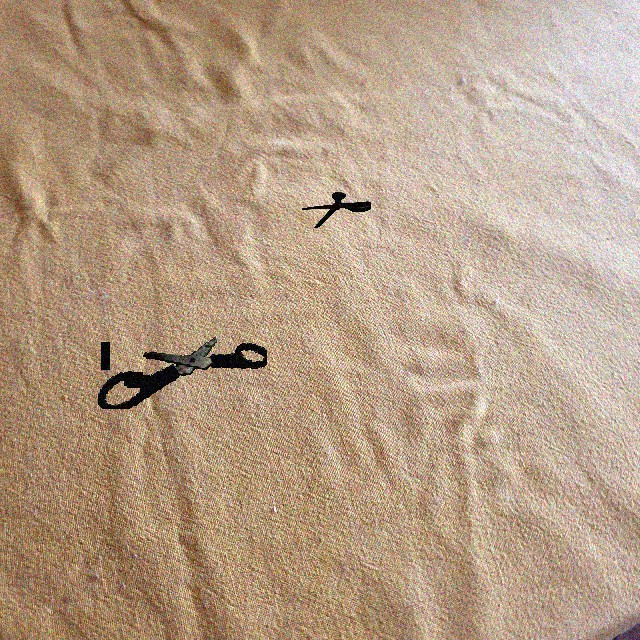scissors: (98, 337, 267, 409), (302, 192, 371, 228)
